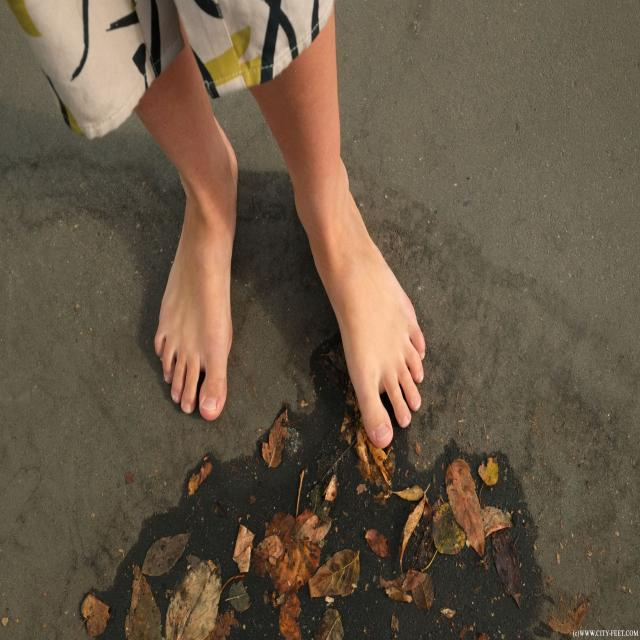Barefoots: (294, 167, 426, 448), (155, 131, 238, 421)
